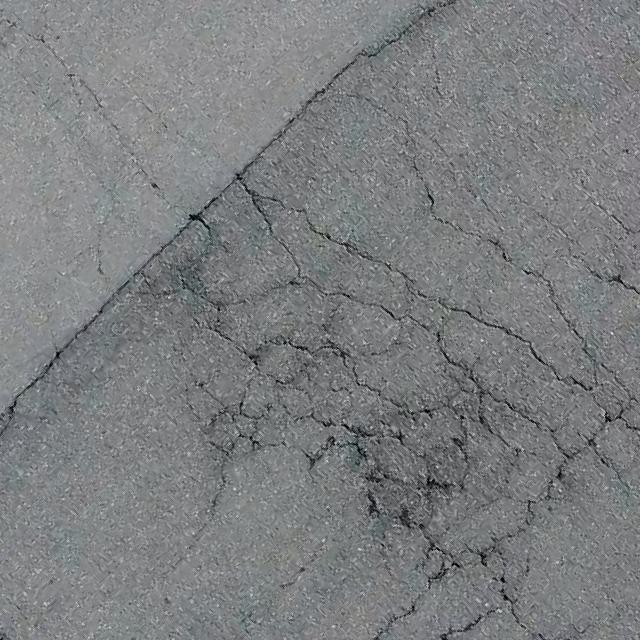GRIETA: (0, 181, 232, 435), (238, 0, 455, 176)
PIEL DE COCODRILO: (132, 61, 639, 639), (0, 0, 235, 293)
